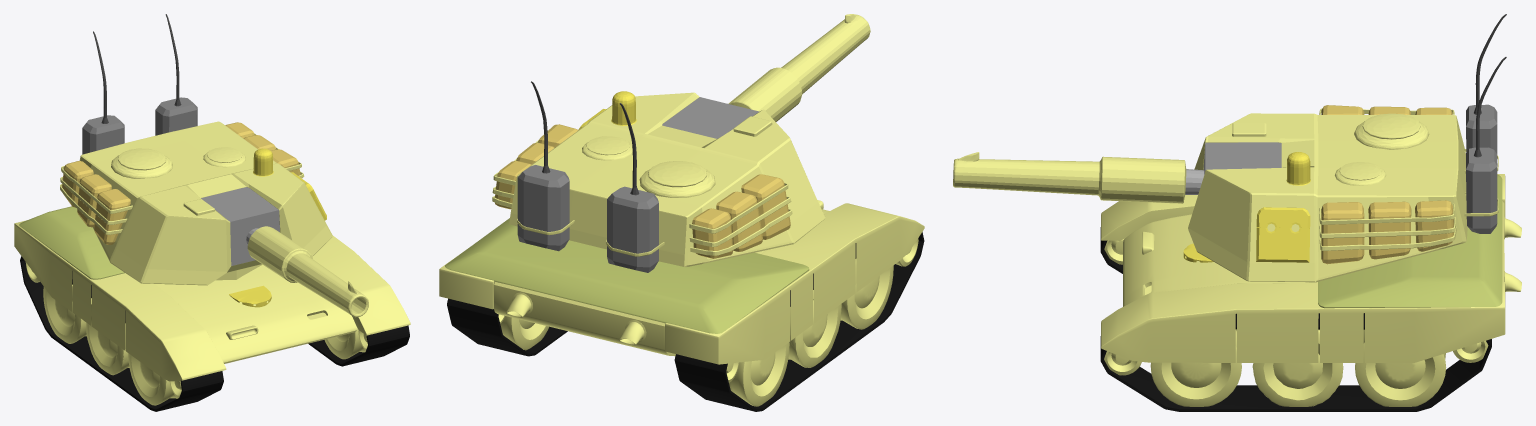
The model's file is CT-105-optymized.fbx.
The picture shows the model from 3 angles, left to right: view 1: azimuth 30°, elevation 25°; view 2: azimuth 150°, elevation 25°; view 3: azimuth 270°, elevation 25°; orthographic projection. The views are drawn at different scales.
Parts seen in each view (by area): view 1: corpus, tower; view 2: corpus, tower; view 3: corpus, tower.
Part boxes in pixels (x1,y1,x2,y2): corpus: (14,206,410,411); tower: (60,14,368,317); corpus: (439,200,924,411); tower: (492,14,870,272); corpus: (1100,174,1521,411); tower: (953,14,1506,282).
Size of the model in its own units: 336 by 364 by 603.
